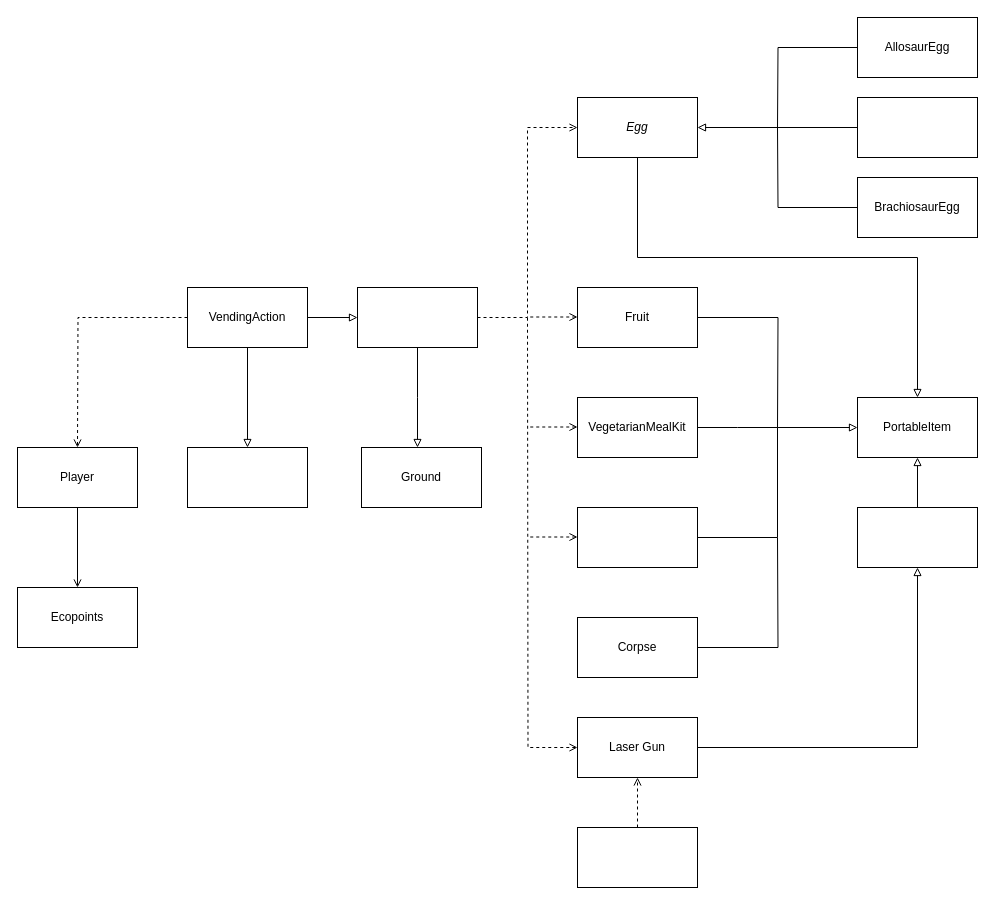
Image size: 995x905. Some labels were removed from this diagram. Each missing label, with the centre of its shape:
Action: (x=247, y=477)
AttackAction: (x=637, y=857)
CarnivoreMealKit: (x=637, y=537)
StegosaurEgg: (x=917, y=127)
VendingItemFactory: (x=417, y=317)
WeaponItem: (x=917, y=537)
